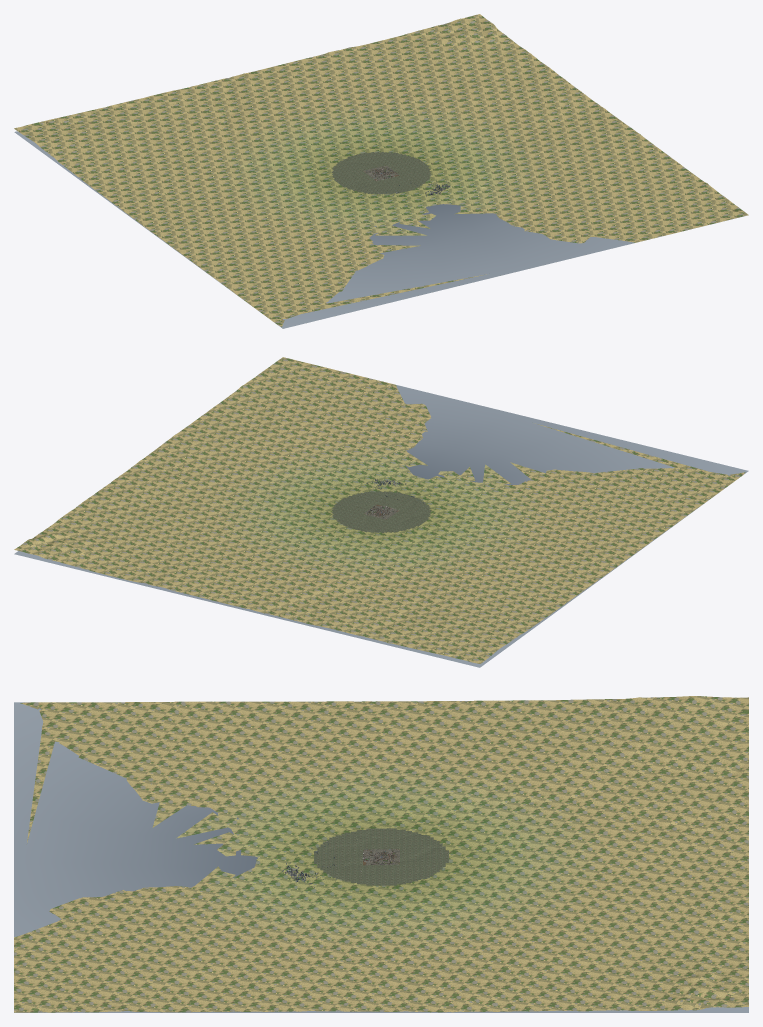
Rendered from windy_hill_backdrop_part1.glb.
3 views of the same model, one above another, from view 1: azimuth 30°, elevation 25°; view 2: azimuth 150°, elevation 25°; view 3: azimuth 270°, elevation 25° (orthographic). The views are drawn at different scales.
Parts seen in each view (by area): view 1: bg_far_terrain, bg_far_water, bg_far_suburb; view 2: bg_far_terrain, bg_far_water, bg_far_suburb; view 3: bg_far_terrain, bg_far_water, bg_far_suburb, bg_near_ground.
Part boxes in pixels (x1,y1,x2,y2): bg_far_terrain: (14, 14, 748, 326); bg_far_water: (14, 131, 746, 328); bg_far_suburb: (331, 151, 431, 194); bg_far_terrain: (14, 357, 745, 663); bg_far_water: (14, 385, 748, 667); bg_far_suburb: (331, 491, 431, 532); bg_far_terrain: (14, 696, 748, 1012); bg_far_water: (14, 702, 748, 1012); bg_far_suburb: (314, 828, 448, 885); bg_near_ground: (363, 849, 399, 865).
Size of the model in its own units: 60002 by 631 by 60001.
Materials: 32 (18 with a texture image).
